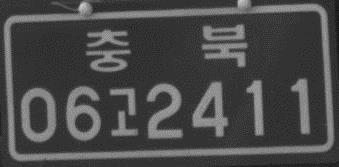0: (19, 84, 56, 143)
1: (286, 74, 313, 138), (238, 80, 266, 138)
2: (145, 80, 186, 139)
4: (188, 80, 233, 142)
6: (64, 84, 101, 141)
고: (107, 86, 141, 138)
충북_D: (82, 16, 248, 74)
